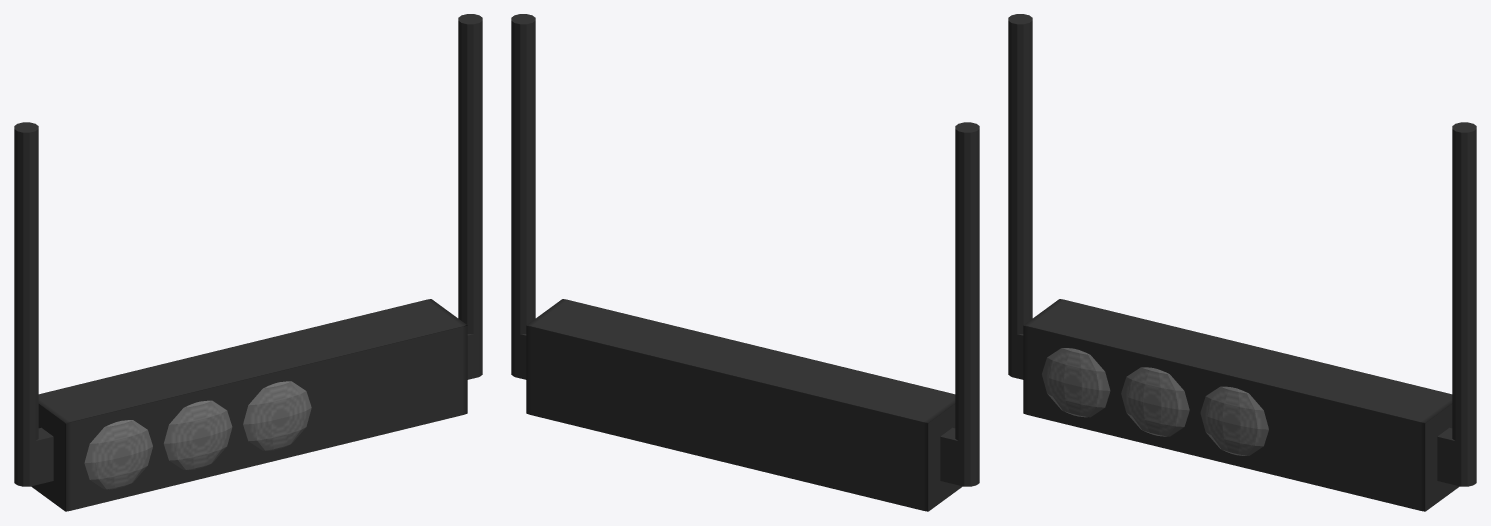
Rendered from nyc_subway_signal_light_3r.obj.
The picture shows the model from 3 angles, left to right: view 1: azimuth 30°, elevation 25°; view 2: azimuth 150°, elevation 25°; view 3: azimuth 330°, elevation 25°; orthographic projection.
Visible parts, largest first — view 1: box, cylinder, light, cube; view 2: box, cylinder, cube; view 3: box, cylinder, light, cube.
Part boxes in pixels (x1,y1,x2,y2): box: (31, 299, 467, 511); cylinder: (14, 14, 482, 486); light: (84, 381, 311, 489); cube: (32, 333, 476, 485); box: (526, 299, 962, 511); cylinder: (511, 14, 979, 486); cube: (517, 333, 958, 485); box: (1023, 299, 1459, 511); cylinder: (1008, 14, 1476, 486); light: (1042, 348, 1268, 455); cube: (1014, 333, 1458, 485).
Size of the model in its own units: 1.38 by 1.06 by 0.2047.
Materials: 1 (1 with a texture image).
